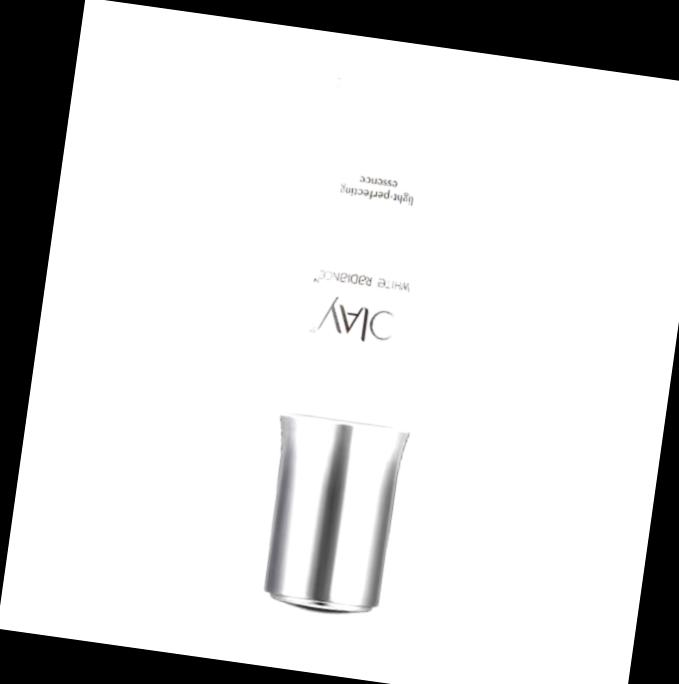cosmetic: (251, 81, 459, 624)
